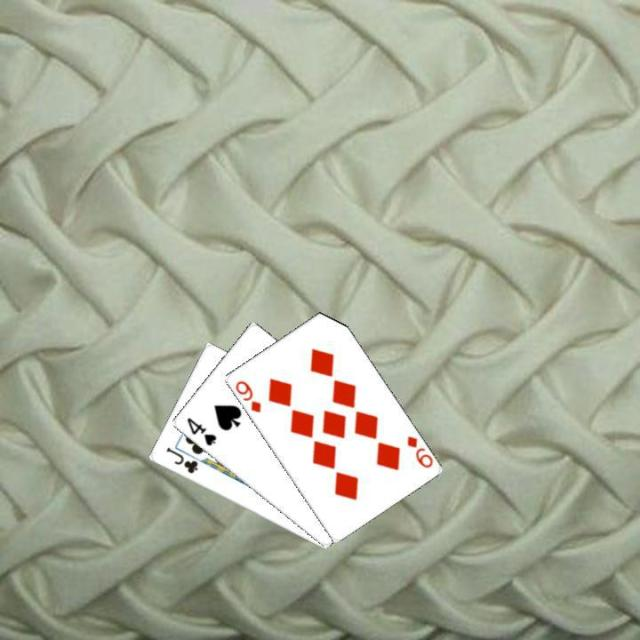4S: (182, 413, 218, 448)
9D: (231, 376, 263, 414), (402, 432, 434, 470)
JC: (162, 444, 199, 476)
